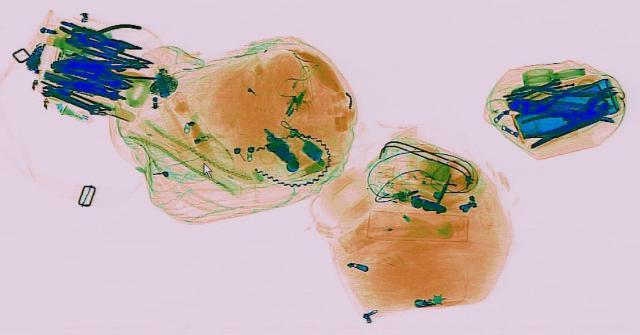Pliers: (54, 15, 158, 62), (526, 77, 630, 122), (508, 104, 608, 138), (60, 22, 150, 55)
Wrench: (31, 82, 111, 115), (500, 76, 566, 104)
